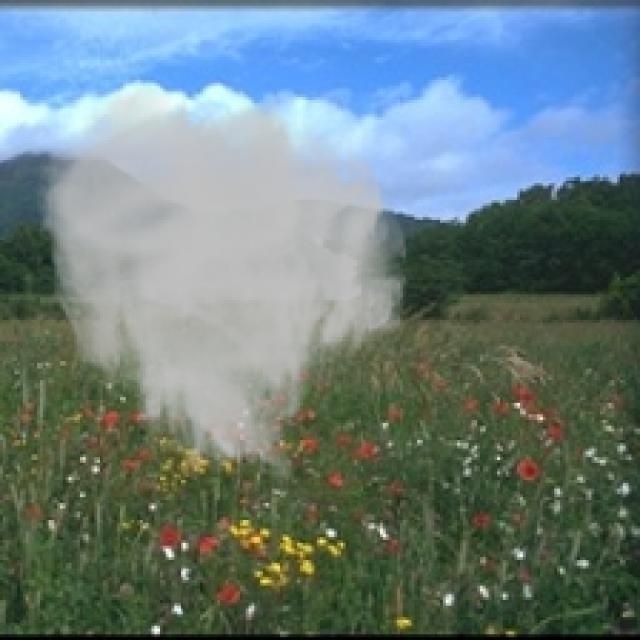smoke: (34, 83, 412, 488)
